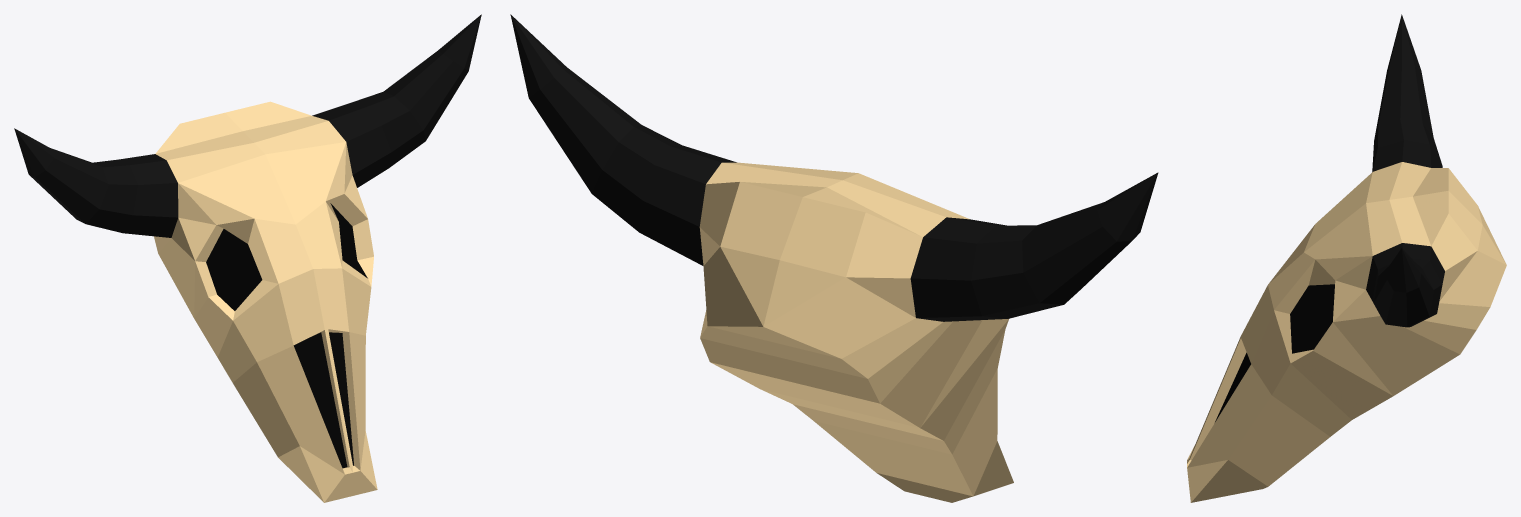
File: Skull04.obj
The picture shows the model from 3 angles, left to right: view 1: azimuth 30°, elevation 25°; view 2: azimuth 150°, elevation 25°; view 3: azimuth 270°, elevation 25°; orthographic projection. The views are drawn at different scales.
Parts seen in each view (by area): view 1: DesertCowSkull_Cube.125; view 2: DesertCowSkull_Cube.125; view 3: DesertCowSkull_Cube.125.
Boxes of the visible parts, <box> form: DesertCowSkull_Cube.125: <box>14,14,481,502</box>; DesertCowSkull_Cube.125: <box>510,14,1158,502</box>; DesertCowSkull_Cube.125: <box>1187,14,1506,502</box>.
Bounding box in the file's own units: 2.11 × 1.51 × 1.22.
